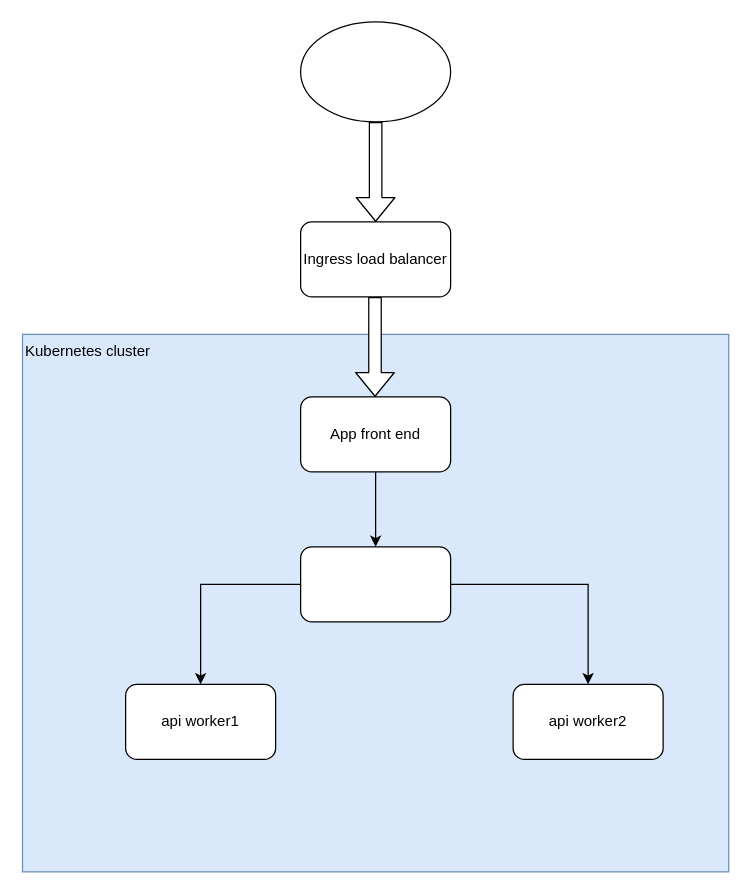
Some shapes in this 750 by 894 pixel diagram are drawn without their labels. Here are the shapes that lost their labels. From the top down, the centre of each, then its label:
At point 375,71: "Internet".
At point 375,584: "Api1 service".
